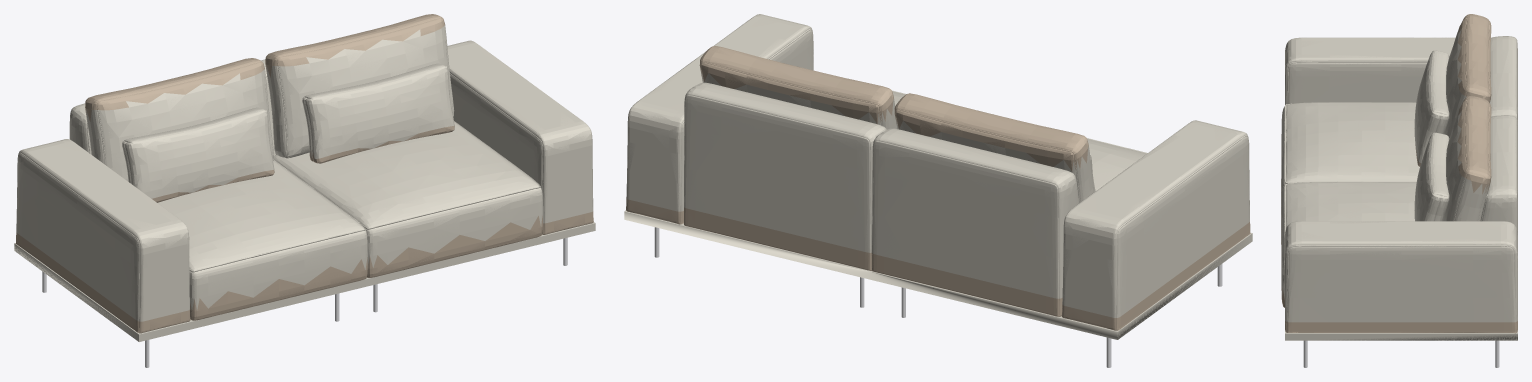
The model's file is newdoublearm2.glb.
3 views of the same model, side by side, from view 1: azimuth 30°, elevation 25°; view 2: azimuth 150°, elevation 25°; view 3: azimuth 270°, elevation 25° (orthographic). The views are drawn at different scales.
Parts seen in each view (by area): view 1: group_2_2384aa, group_5_cc7c2c, group_4_97d7a4, group_10, group_8_2705bb, group_11_9a3704, group_5_09aad5, group_9_758fde, group_2_aa5fce, group_6_ef00ff, group_4, group_6_da5804 (+11 smaller); view 2: group_3_50b57a, group_7_46add3, group_2_2384aa, group_6_ef00ff, group_3_6650a2, group_7_48bf71, group_8_2705bb, group_10, group_2_edbf78, instance_0.004_adb38c, group_2_aa5fce, group_6_06449b (+6 smaller); view 3: group_6_ef00ff, group_4, group_6_06449b, group_2_2384aa, group_6_da5804, group_10, group_5_09aad5, group_8_2705bb, group_7_46add3, group_4_97d7a4, group_2_aa5fce, group_9_758fde (+15 smaller).
Part boxes in pixels (x1,y1,x2,y2): group_2_2384aa: [15, 139, 164, 316]; group_5_cc7c2c: [342, 164, 542, 277]; group_4_97d7a4: [189, 209, 367, 320]; group_10: [265, 14, 454, 158]; group_8_2705bb: [85, 58, 273, 181]; group_11_9a3704: [302, 63, 454, 163]; group_5_09aad5: [273, 121, 523, 214]; group_9_758fde: [122, 107, 274, 202]; group_2_aa5fce: [115, 208, 190, 333]; group_6_ef00ff: [447, 40, 567, 167]; group_4: [158, 160, 346, 248]; group_6_da5804: [518, 110, 593, 234]; group_3_50b57a: [872, 128, 1079, 316]; group_7_46add3: [684, 82, 886, 270]; group_2_2384aa: [1061, 135, 1226, 330]; group_6_ef00ff: [626, 28, 790, 224]; group_3_6650a2: [872, 129, 1078, 315]; group_7_48bf71: [684, 83, 884, 270]; group_8_2705bb: [894, 93, 1094, 202]; group_10: [699, 46, 897, 129]; group_2_edbf78: [1062, 135, 1226, 330]; instance_0.004_adb38c: [624, 211, 1252, 339]; group_2_aa5fce: [1173, 120, 1250, 250]; group_6_06449b: [626, 29, 790, 223]; group_6_ef00ff: [1329, 221, 1517, 333]; group_4: [1316, 102, 1419, 181]; group_6_06449b: [1329, 221, 1517, 332]; group_2_2384aa: [1329, 37, 1455, 102]; group_6_da5804: [1285, 221, 1329, 332]; group_10: [1442, 96, 1491, 221]; group_5_09aad5: [1317, 182, 1416, 221]; group_8_2705bb: [1444, 14, 1491, 137]; group_7_46add3: [1480, 115, 1517, 235]; group_4_97d7a4: [1281, 102, 1336, 206]; group_2_aa5fce: [1285, 37, 1329, 104]; group_9_758fde: [1414, 50, 1449, 166].
Size of the model in its own units: 1.9 by 0.7709 by 0.9152.
